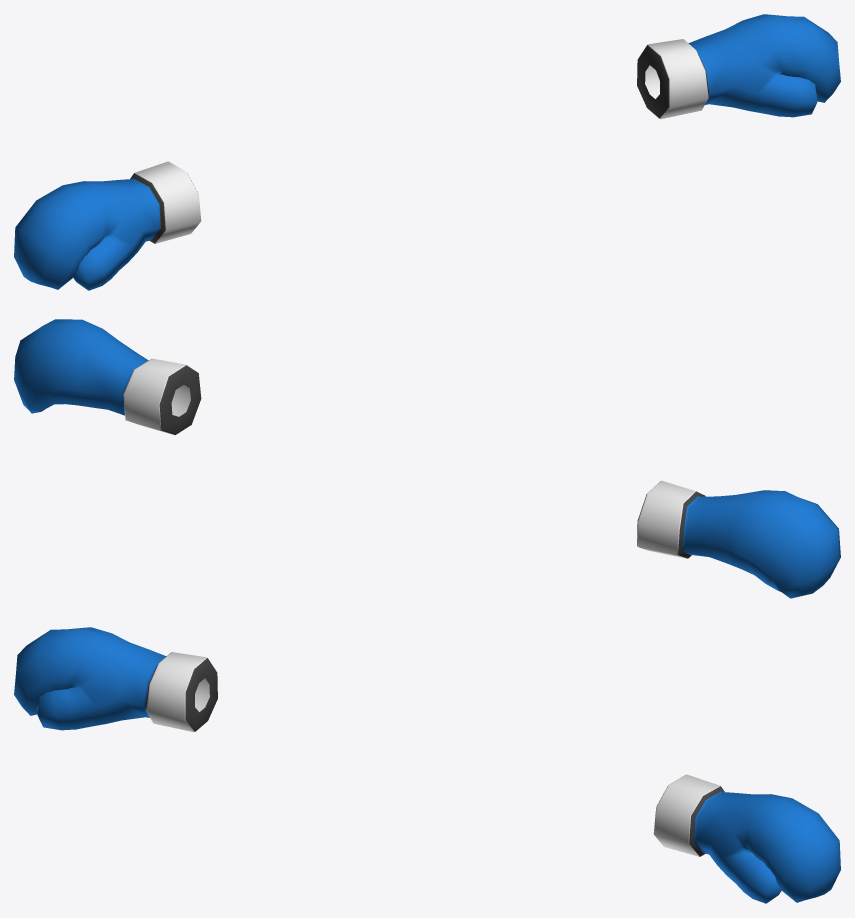
Rendered from Glove_014.glb.
3 views of the same model, one above another, from view 1: azimuth 30°, elevation 25°; view 2: azimuth 150°, elevation 25°; view 3: azimuth 330°, elevation 25° (orthographic).
Visible parts, largest first — view 1: Glove_014; view 2: Glove_014; view 3: Glove_014.
Boxes of the visible parts, <box> form: Glove_014: <box>14,14,840,290</box>; Glove_014: <box>14,319,840,598</box>; Glove_014: <box>14,627,840,903</box>.
Size of the model in its own units: 1.87 by 0.1908 by 0.2168.
1 material, 1 textured.
